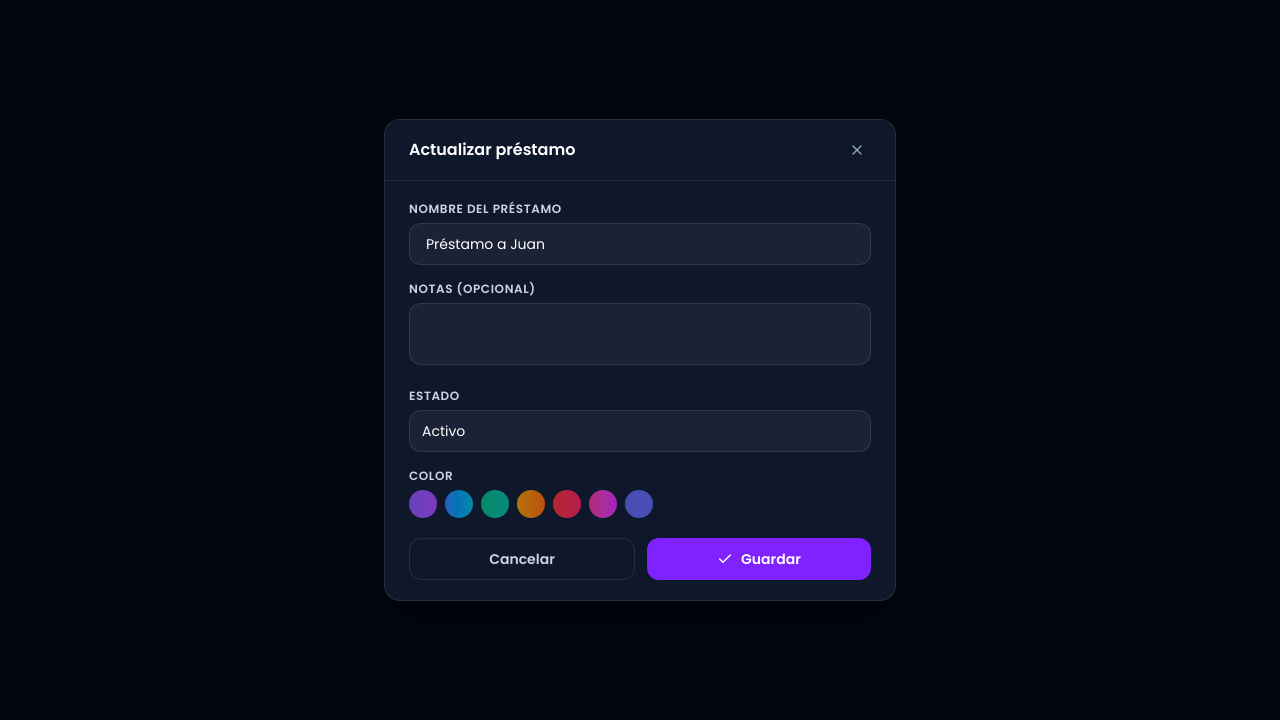
EditLoanModal › muestra el error del servidor
Expected: the field labelled "Nombre del préstamo" holds "Préstamo a Juan", [409,223,871,265]
Click the submit button: (759, 559) [647,538,871,580]
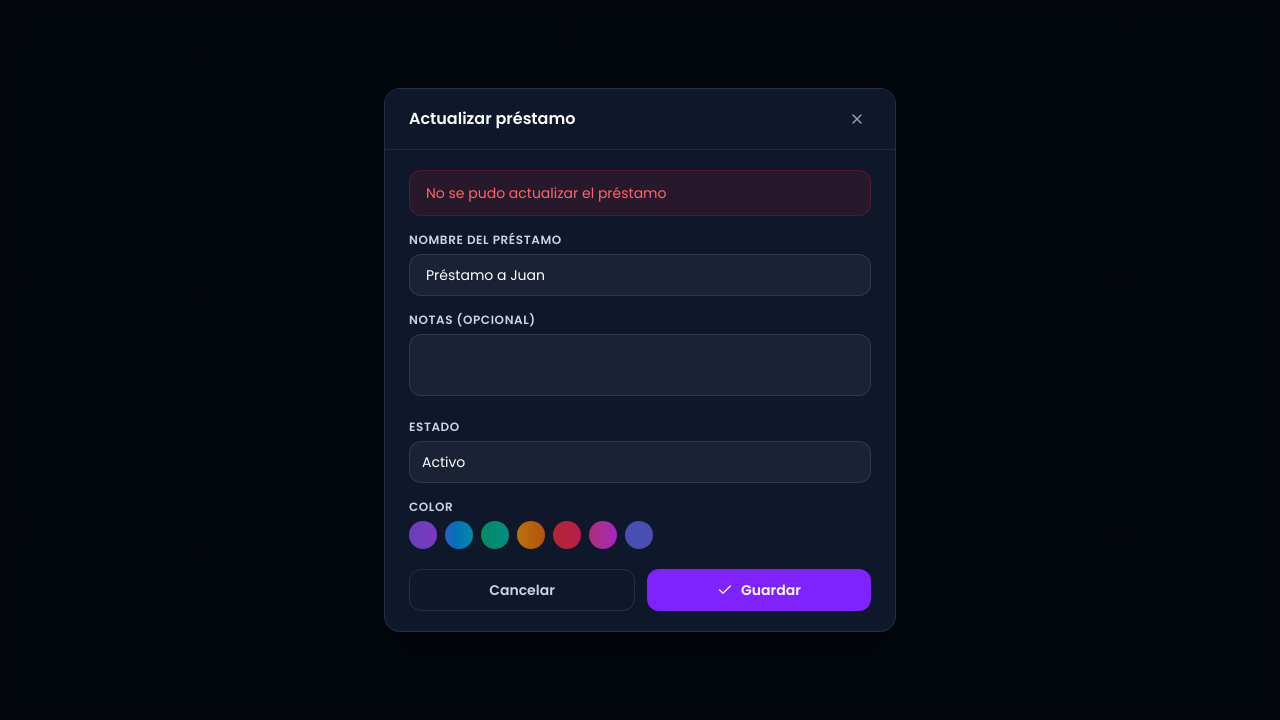
Now the message reads "No se pudo actualizar el préstamo", box [426,183,666,203]
